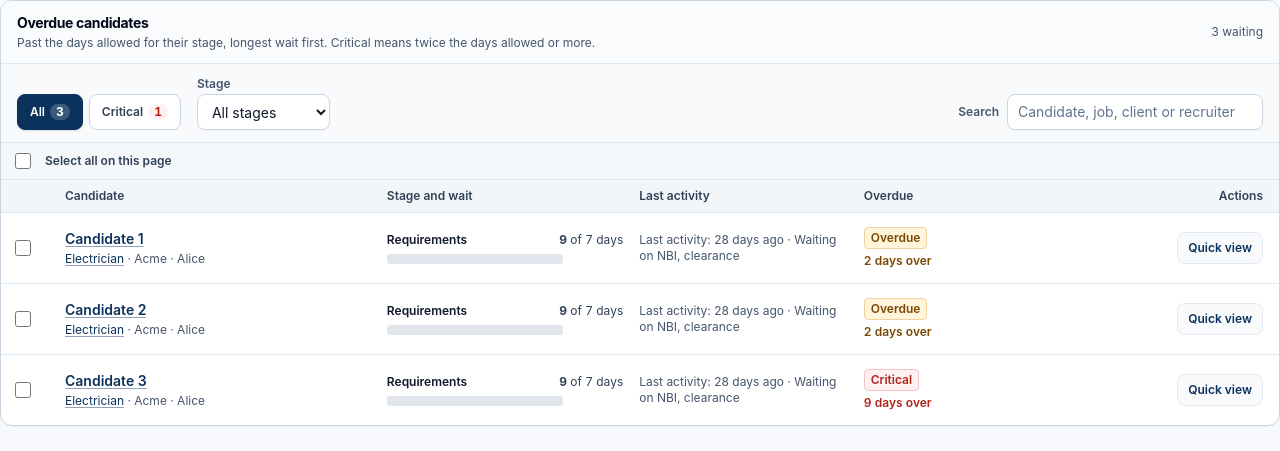
Scenario: StuckList selection › select all picks every row on the page and is indeterminate when only some are ticked
Click the checkbox named "Select Candidate 2". click: point(23, 319)
box: [15,311,31,327]
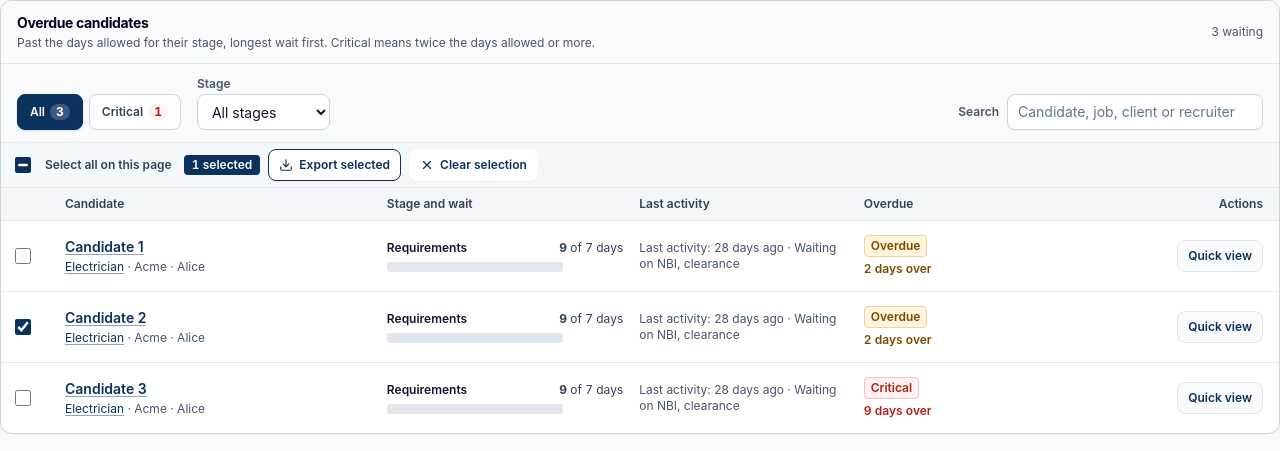
Click the checkbox labelled "Select all on this page". click: point(23, 165)
box: [15,157,31,173]
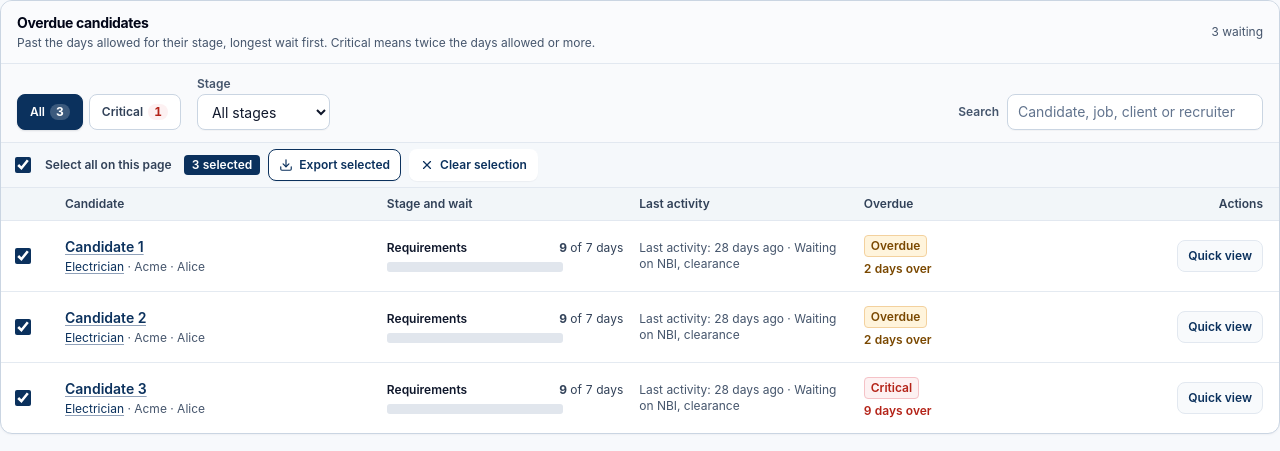
Check: the checkbox labelled "Select all on this page" is checked
Check: the text "3 selected" is shown, box [184,155,260,175]
Click the checkbox labelled "Select all on this page". click: point(23, 165)
box: [15,157,31,173]
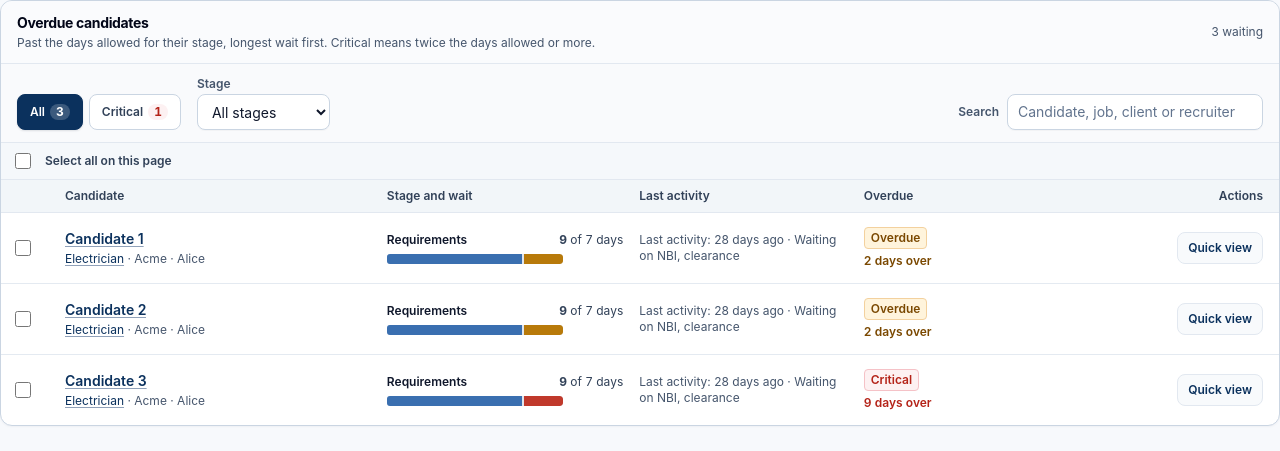
Check: the text "selected" is gone
